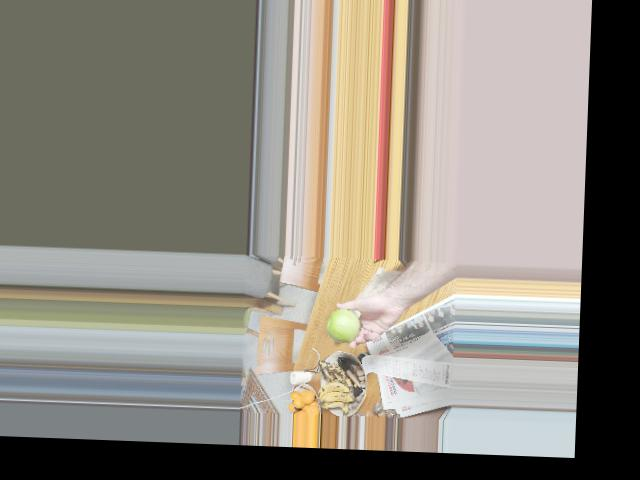apple: (327, 308, 363, 344)
